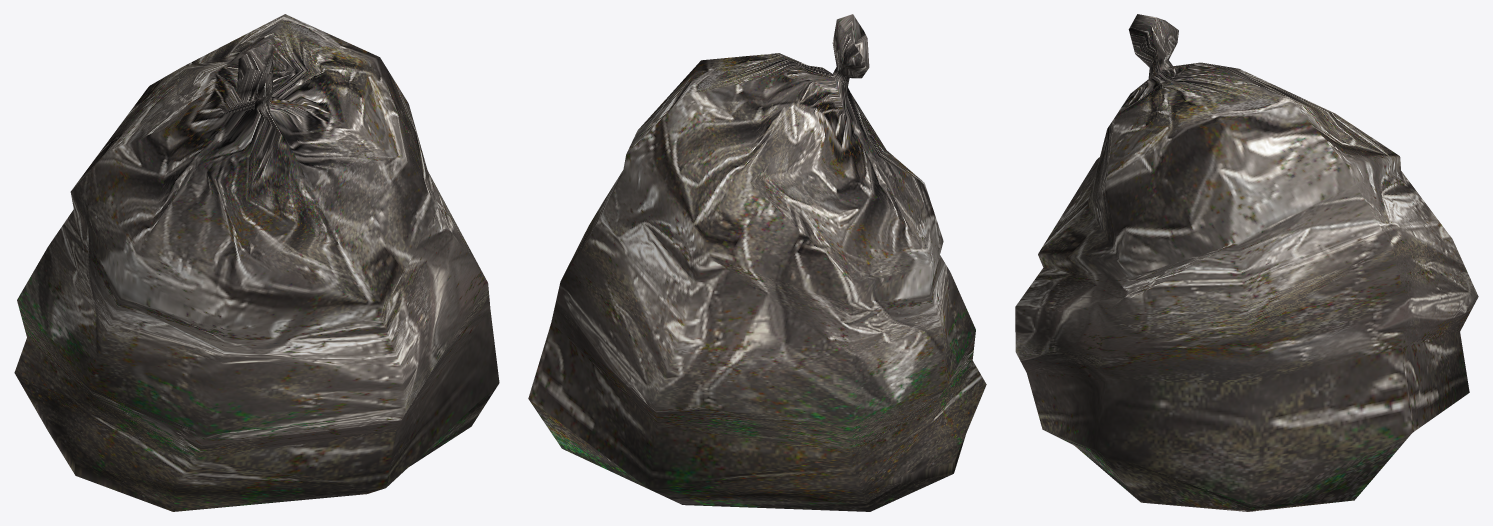
File: Model_Garbage_Bag_02.fbx
3 views of the same model, side by side, from view 1: azimuth 30°, elevation 25°; view 2: azimuth 150°, elevation 25°; view 3: azimuth 270°, elevation 25° (orthographic). The views are drawn at different scales.
Parts seen in each view (by area): view 1: Garbage_Bag_02; view 2: Garbage_Bag_02; view 3: Garbage_Bag_02.
Part boxes in pixels (box(x1,y1,x2,y2)): Garbage_Bag_02: box(14, 14, 499, 511); Garbage_Bag_02: box(528, 14, 986, 511); Garbage_Bag_02: box(1015, 14, 1478, 511).
Bounding box in the file's own units: 45.93 × 49.21 × 48.73.
